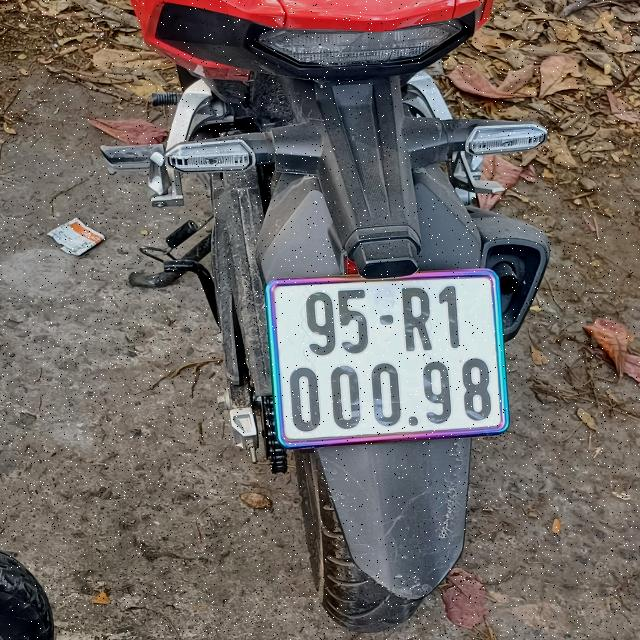0: (364, 364, 404, 423), (289, 368, 325, 433), (328, 365, 362, 427)
1: (438, 286, 464, 348)
8: (460, 355, 495, 419)
9: (301, 288, 340, 359), (335, 287, 373, 352), (419, 361, 455, 424)
R: (399, 286, 437, 352)
